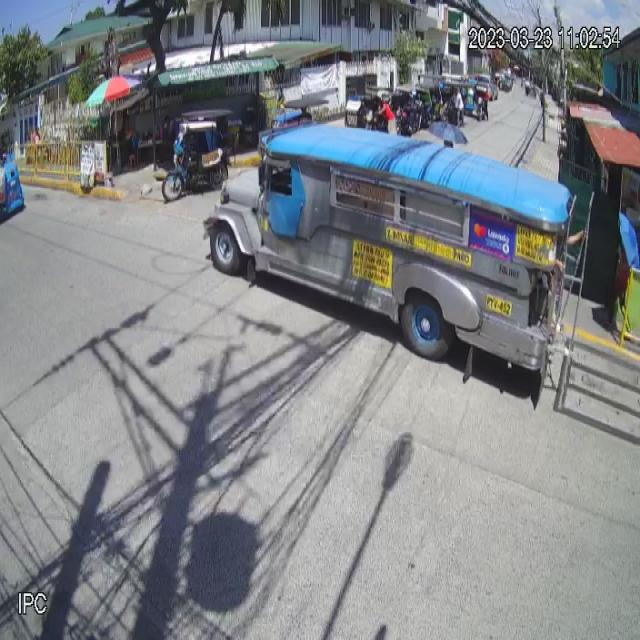Jeep: (202, 124, 569, 398)
